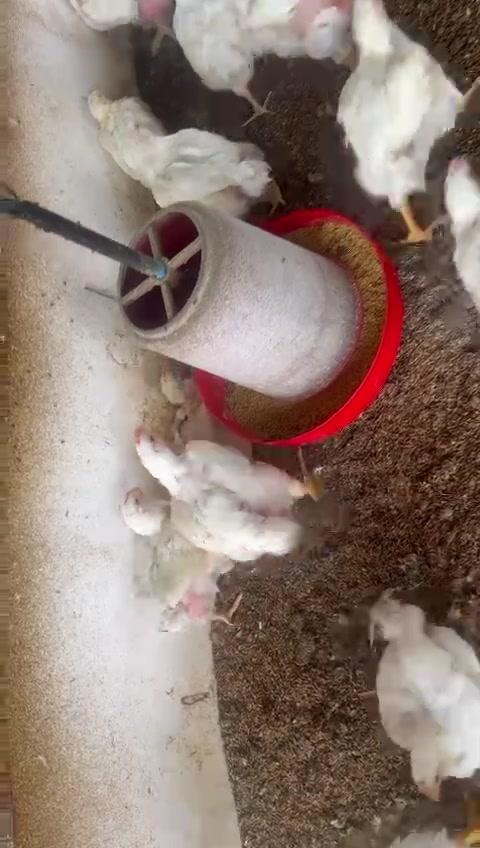AbNormal: (367, 600, 480, 798), (159, 365, 208, 453)
Normal: (337, 0, 470, 239), (135, 427, 322, 560), (124, 485, 242, 630), (120, 119, 281, 217), (177, 0, 270, 116), (257, 0, 354, 65), (444, 159, 480, 315), (70, 0, 180, 49)
